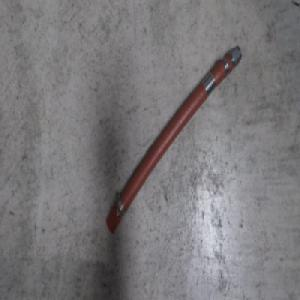Hose: (104, 43, 242, 237)
